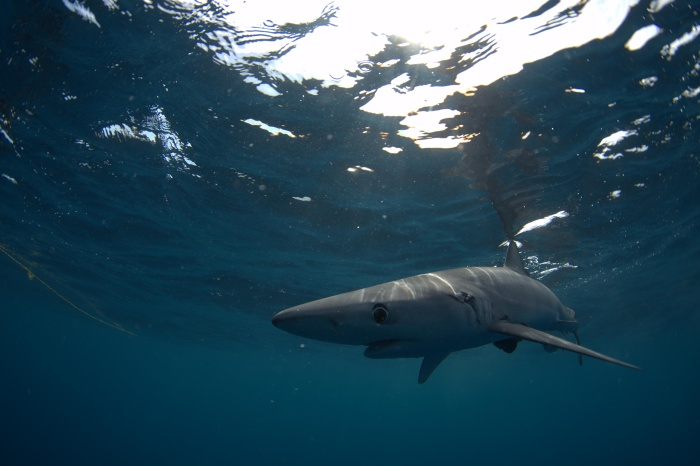Azul: (254, 214, 672, 398)
